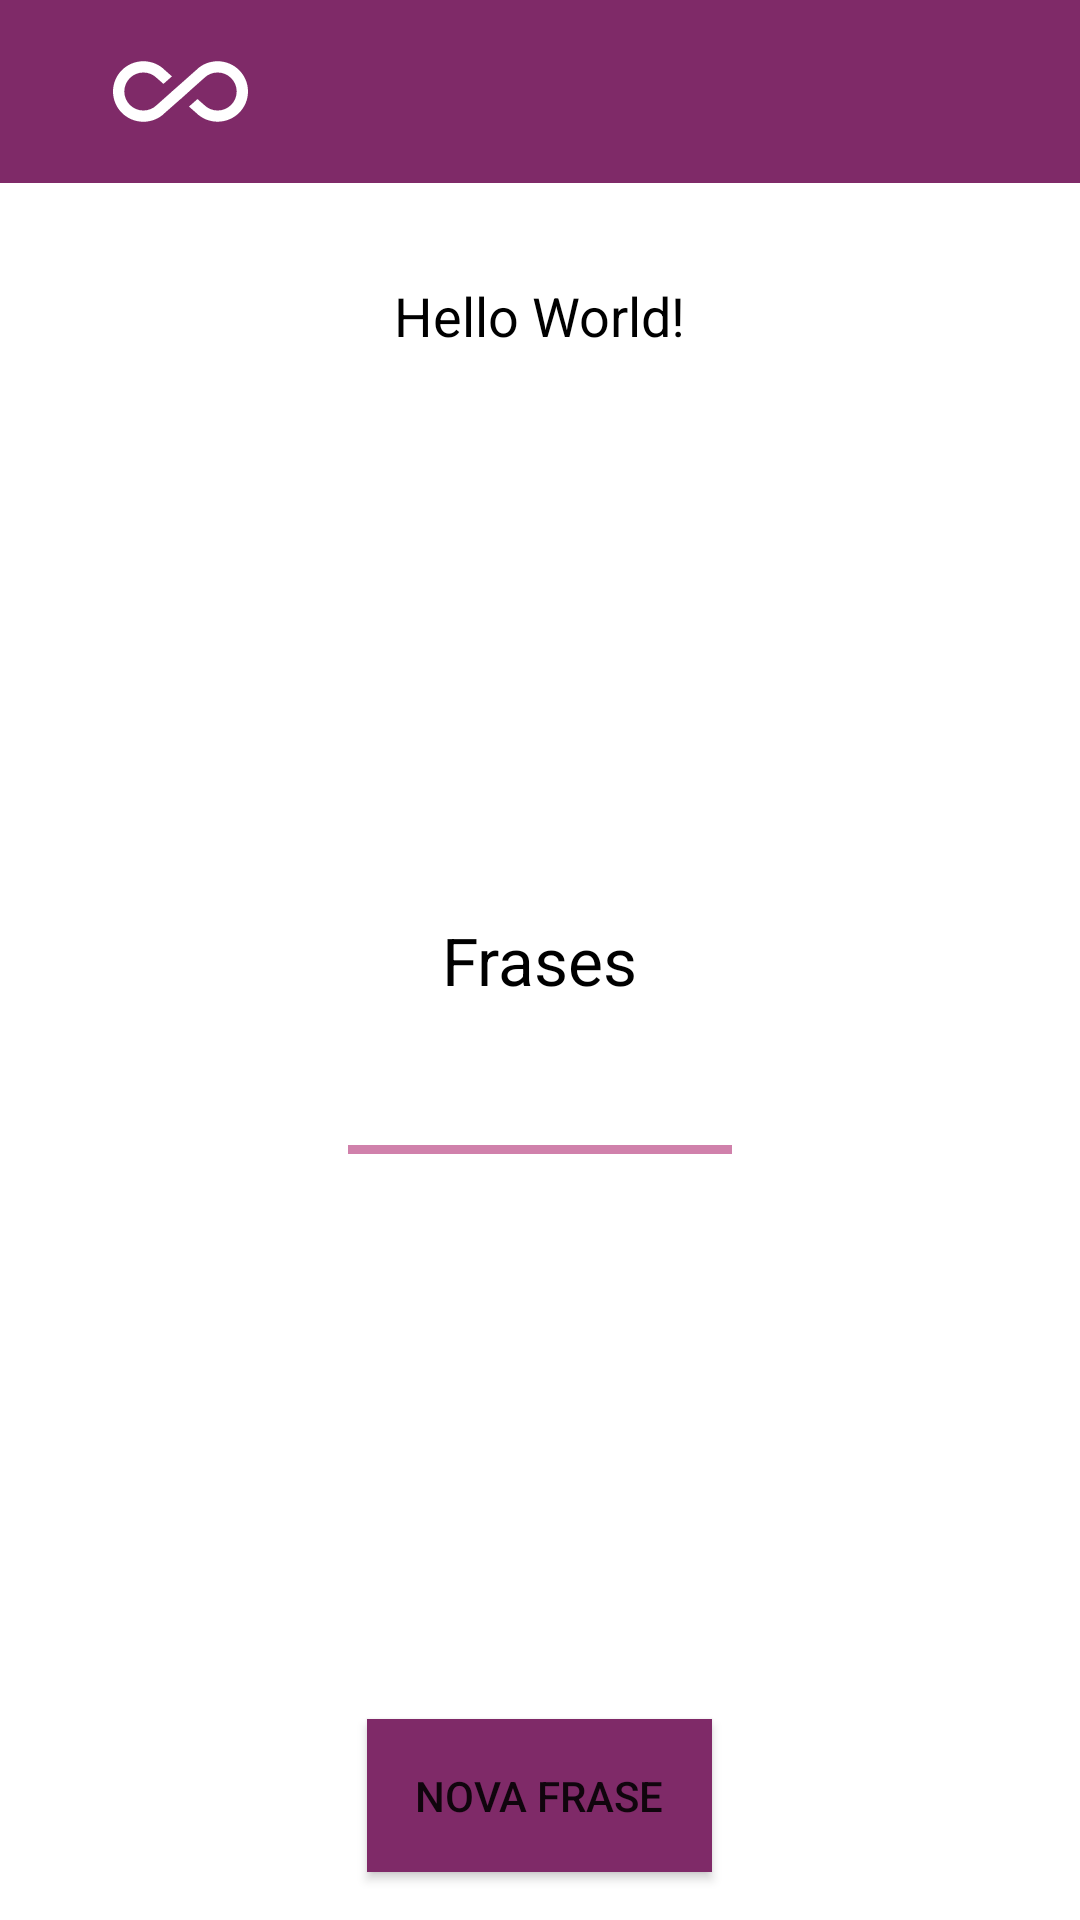

Icon bounding boxes for this 1080x1920 phone screenshot, format bbox(x1, y1, x2, y2):
infinit: bbox(113, 61, 248, 122)
